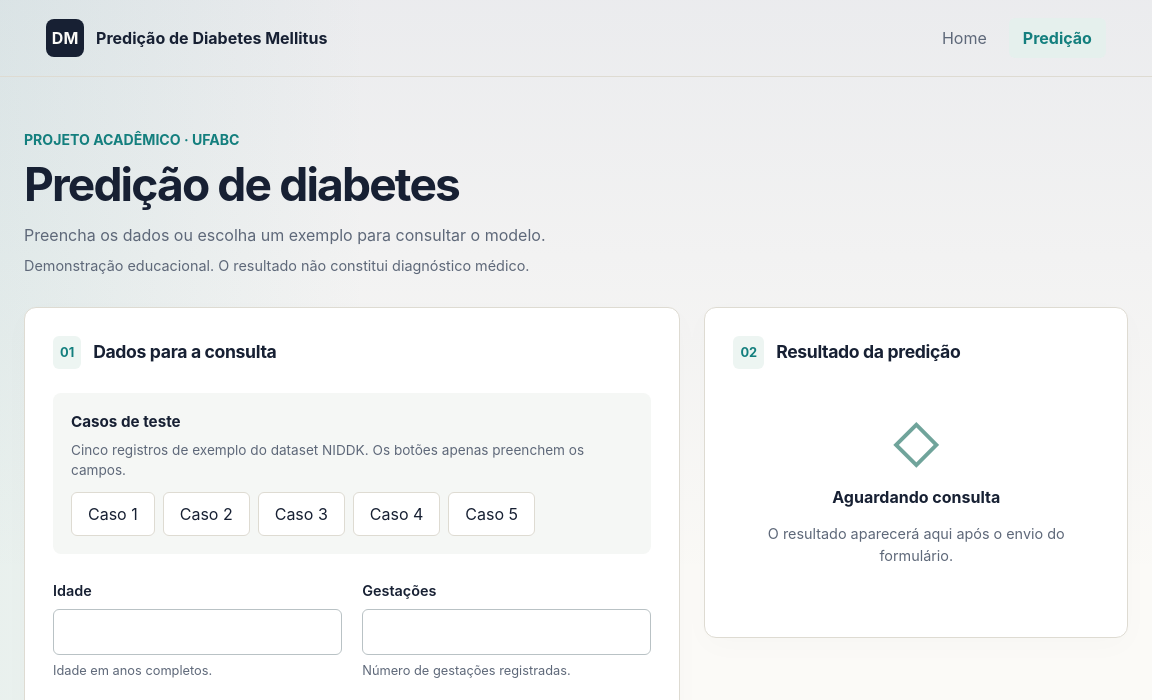
Test case: Formulário de predição › discards the old prediction when another case is selected
Click the button "Caso 1" at (113, 514), box [71,492,155,536]
(page scrolled)
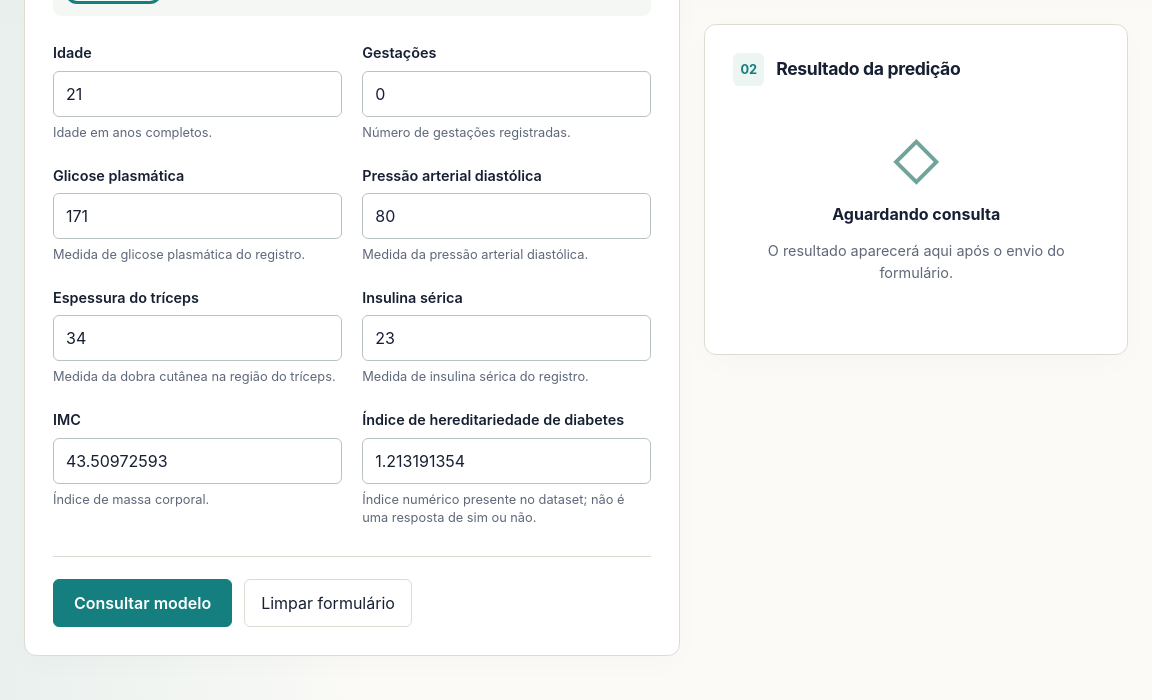
Click the button "Consultar modelo" at (143, 603), box [53,579,232,627]
(page scrolled)
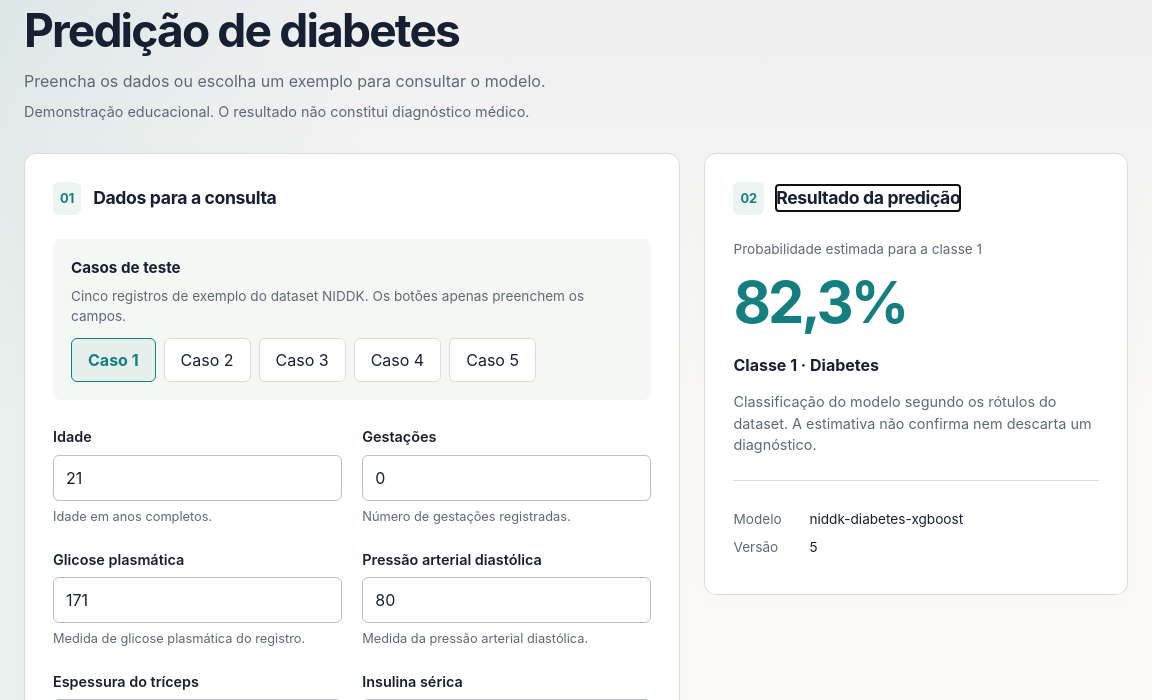
Expected: the text "82,3%" is shown, [734,267,906,337]
Click the button "Caso 3" at (302, 360), box [259,338,346,382]
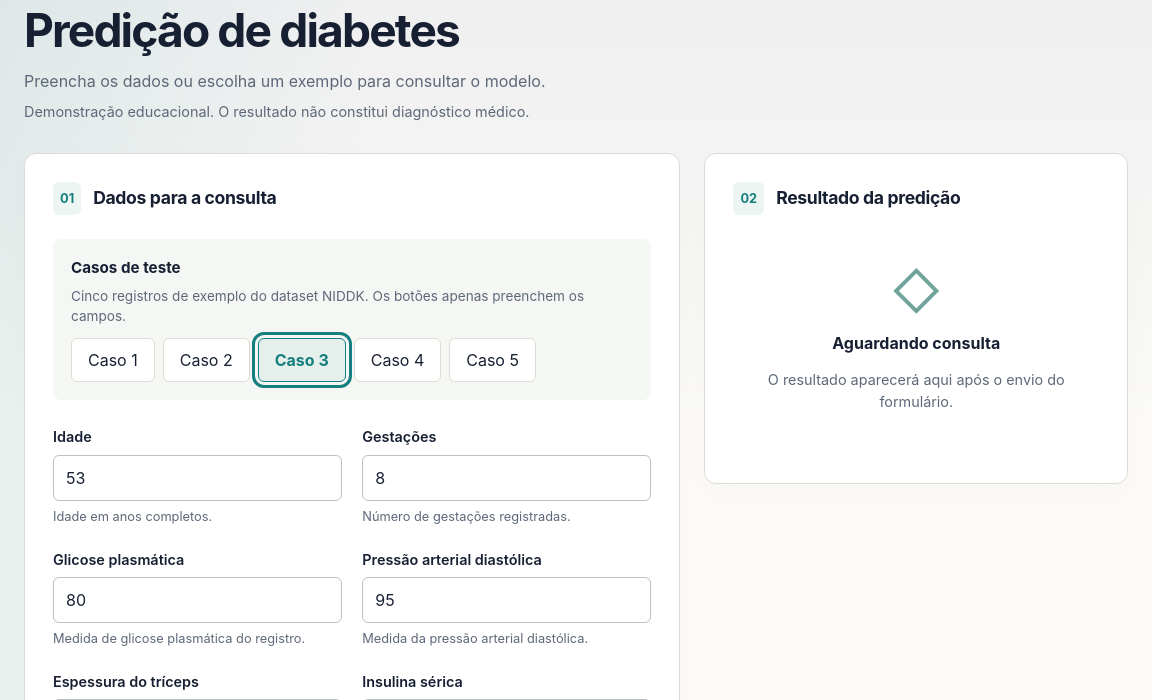
Expected: the text "82,3%" is gone
